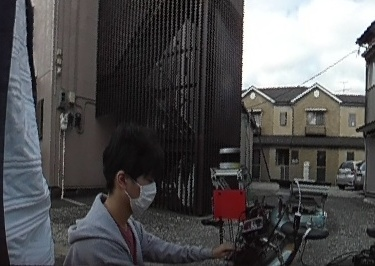person: (71, 122, 179, 266)
